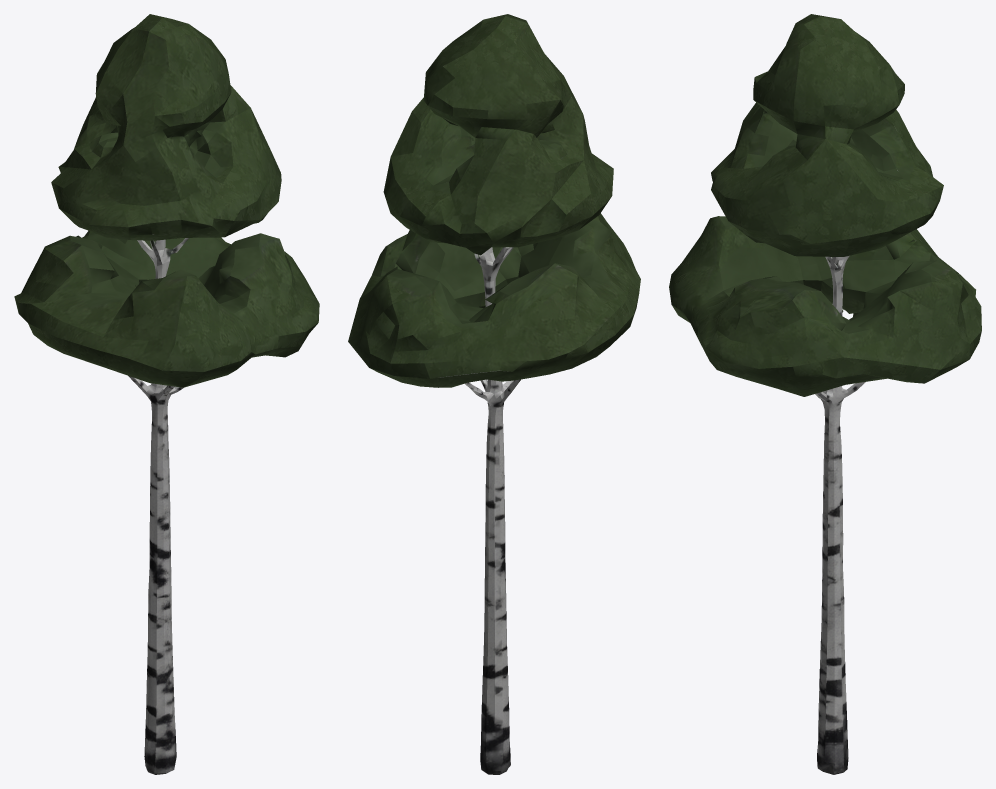
The model's file is wh-tree-birch-young.glb.
3 views of the same model, side by side, from view 1: azimuth 30°, elevation 25°; view 2: azimuth 150°, elevation 25°; view 3: azimuth 270°, elevation 25° (orthographic).
Size of the model in its own units: 0.6557 by 1.85 by 0.6984.
Materials: 1 (1 with a texture image).
